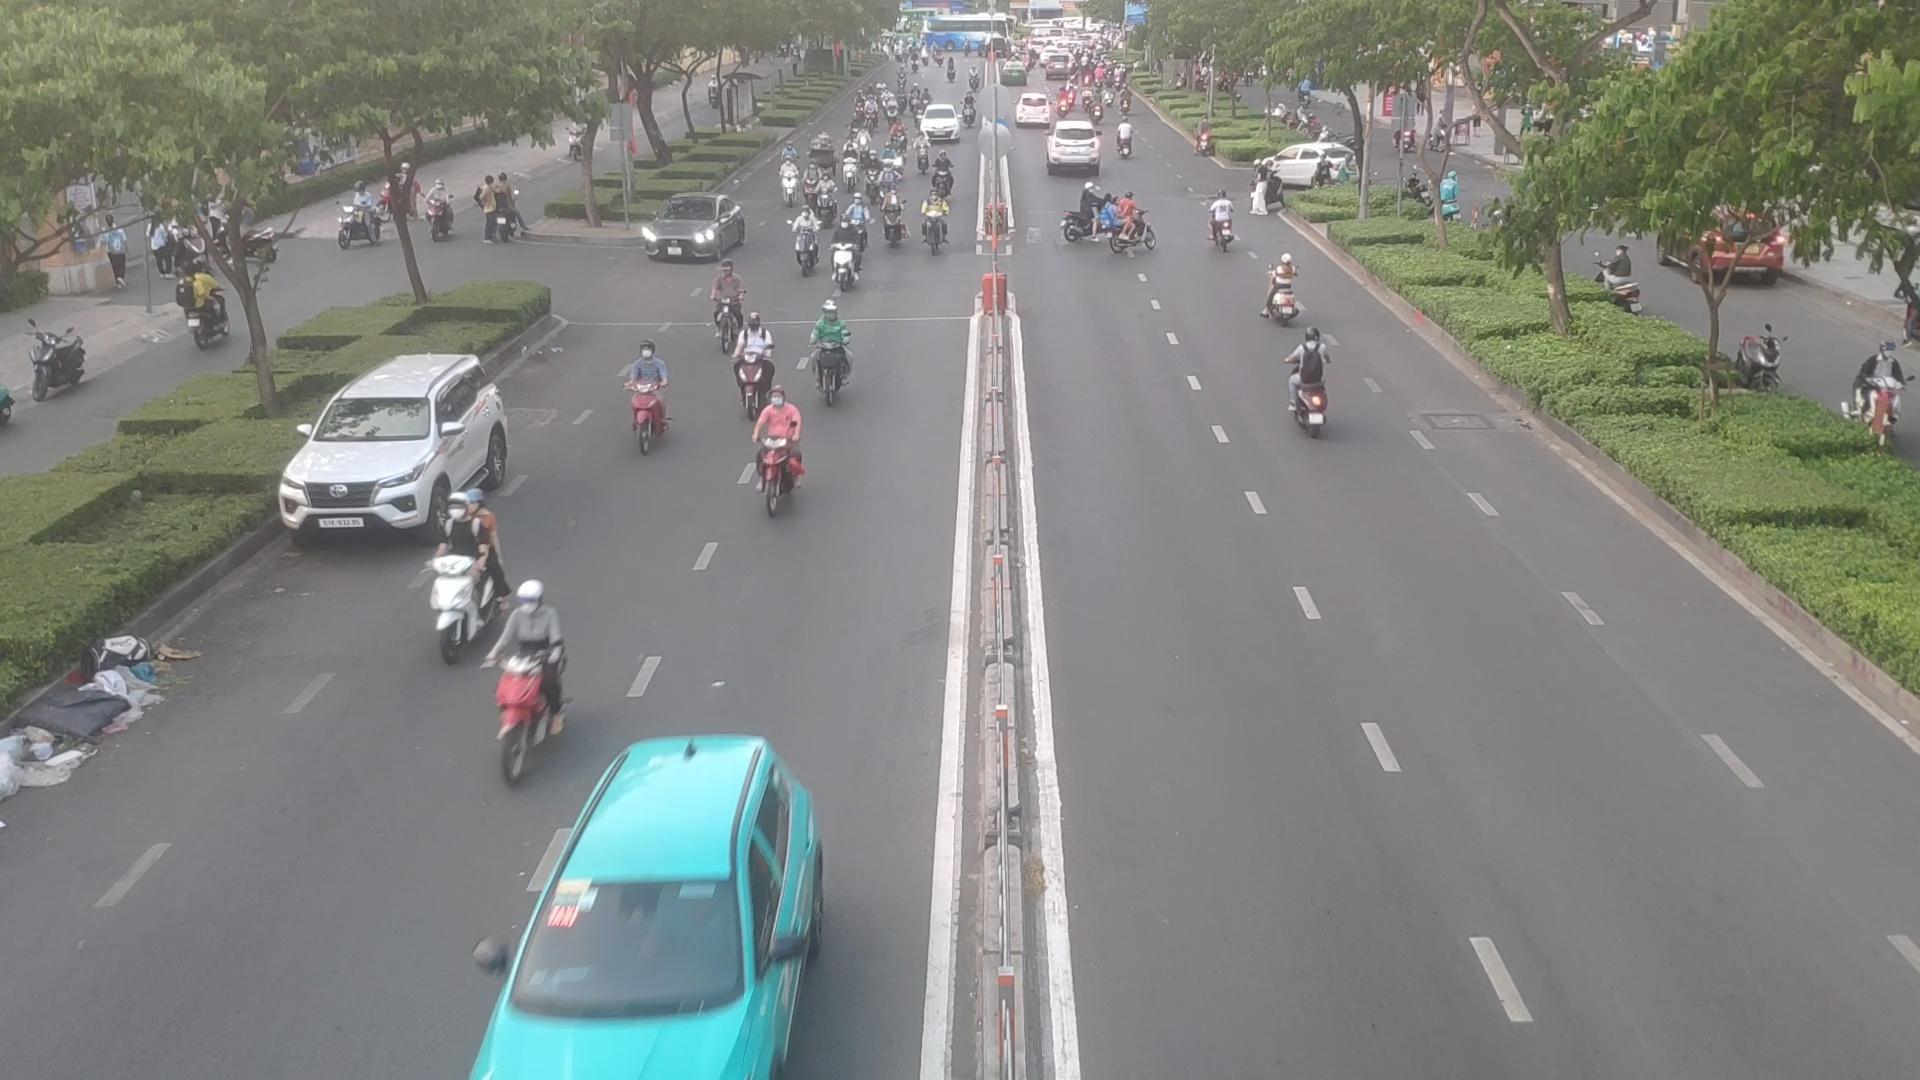car: (467, 727, 870, 1080), (280, 355, 516, 549), (636, 195, 748, 262), (1261, 142, 1360, 189), (1048, 125, 1097, 167)
motorbike: (487, 560, 588, 754), (421, 477, 509, 665), (742, 392, 804, 509), (628, 334, 667, 463), (1284, 328, 1331, 433), (806, 299, 851, 392), (1098, 189, 1159, 256), (732, 322, 766, 427), (1269, 252, 1307, 334), (1058, 185, 1108, 243), (717, 272, 746, 349), (829, 218, 860, 286), (847, 195, 880, 252), (920, 196, 951, 255), (1211, 189, 1237, 252), (794, 208, 816, 270), (884, 187, 905, 252), (816, 177, 833, 225), (781, 162, 796, 207), (866, 154, 880, 200), (841, 146, 855, 191), (804, 164, 816, 211), (932, 152, 945, 193), (913, 135, 927, 171), (881, 144, 895, 167), (856, 131, 866, 161)
